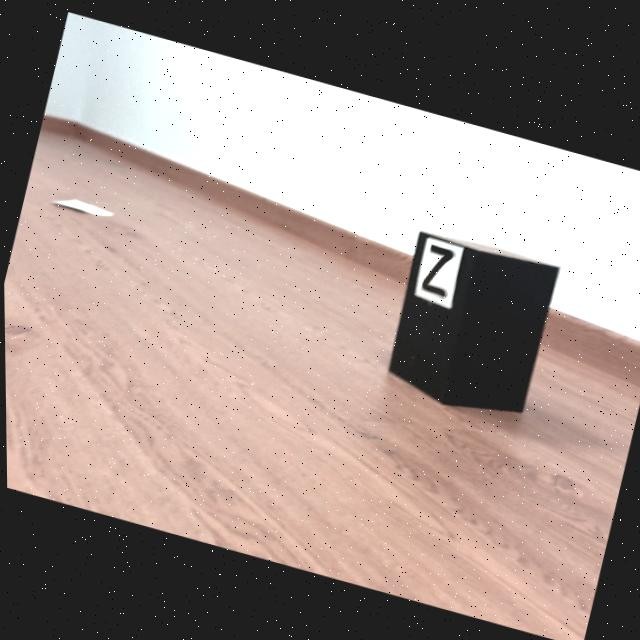Z: (420, 242, 453, 295)
